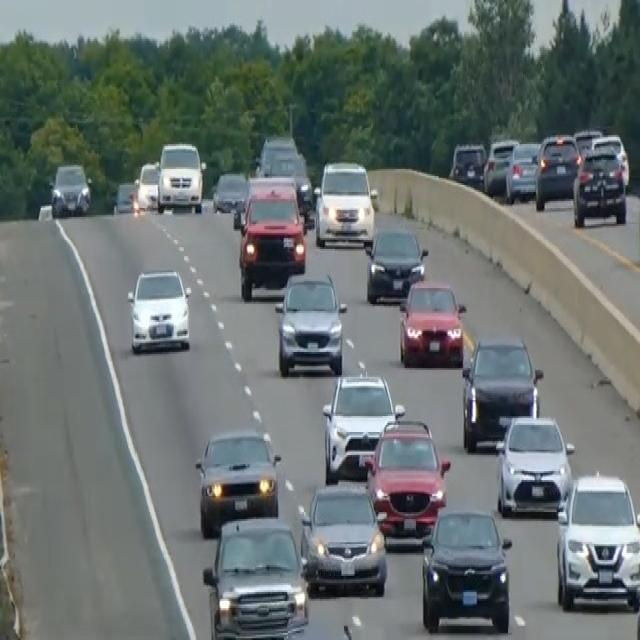car: (555, 469, 639, 612), (420, 505, 512, 633), (364, 414, 450, 540), (298, 478, 388, 598), (461, 332, 543, 452), (194, 425, 281, 535), (321, 370, 403, 482), (233, 178, 306, 298), (494, 412, 575, 518), (274, 270, 347, 377), (398, 276, 466, 368), (126, 265, 192, 354), (313, 157, 377, 247), (364, 224, 428, 304), (572, 142, 627, 226), (534, 132, 581, 210), (263, 149, 313, 219), (50, 160, 91, 217), (505, 138, 541, 202), (482, 135, 519, 196), (590, 132, 630, 188), (449, 140, 487, 188), (257, 132, 297, 174), (212, 169, 247, 213), (136, 160, 160, 210), (572, 126, 602, 160), (112, 180, 138, 215), (635, 516, 639, 638)
jeep: (201, 514, 309, 638)
minivan: (155, 137, 206, 213)
